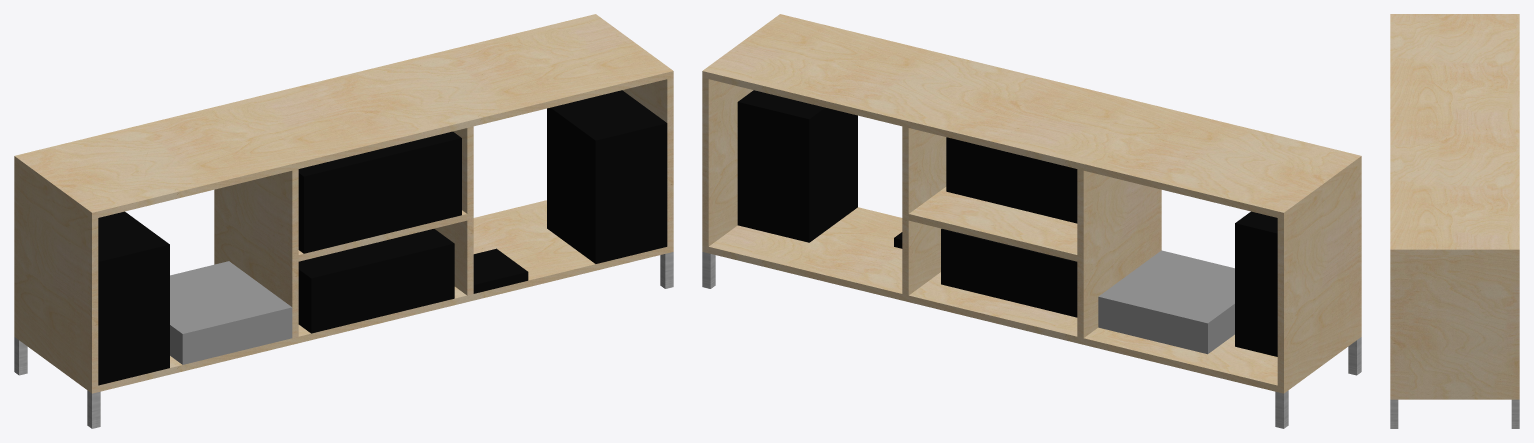
The model's file is wide-short-console.dae.
3 views of the same model, side by side, from view 1: azimuth 30°, elevation 25°; view 2: azimuth 150°, elevation 25°; view 3: azimuth 270°, elevation 25° (orthographic). The views are drawn at different scales.
Parts seen in each view (by area): view 1: group_2, group_14, group_7, group_12, group_13, group_15, group_6, group_16, group_4, group_1, group_5, group_17 (+1 smaller); view 2: group_2, group_6, group_14, group_7, group_16, group_4, group_13, group_12, group_3, group_15, group_5, group_1; view 3: group_2, group_5, group_6, group_10, group_11.
Part boxes in pixels (x1,y1,x2,y2): group_2: (14,14,673,219); group_14: (547,90,667,263); group_7: (14,163,98,386); group_12: (298,131,461,253); group_13: (298,229,454,333); group_15: (98,211,169,385); group_6: (14,200,673,393); group_16: (170,261,292,364); group_4: (214,169,298,337); group_1: (434,126,473,295); group_5: (622,77,673,246); group_17: (473,248,528,293); group_2: (702,14,1361,219); group_6: (702,207,1361,393); group_14: (737,90,857,242); group_7: (1277,163,1361,386); group_16: (1098,250,1234,354); group_4: (1077,169,1161,337); group_13: (941,229,1077,317); group_12: (946,137,1077,223); group_3: (908,187,1077,261); group_15: (1235,211,1277,356); group_5: (702,77,753,246); group_1: (902,126,946,295); group_2: (1390,14,1519,254); group_5: (1390,255,1519,394); group_6: (1390,394,1519,399); group_10: (1390,399,1398,428); group_11: (1511,399,1519,428).
Bounding box in the file's own units: 69 × 16 × 24.5.
4 materials, 2 textured.
